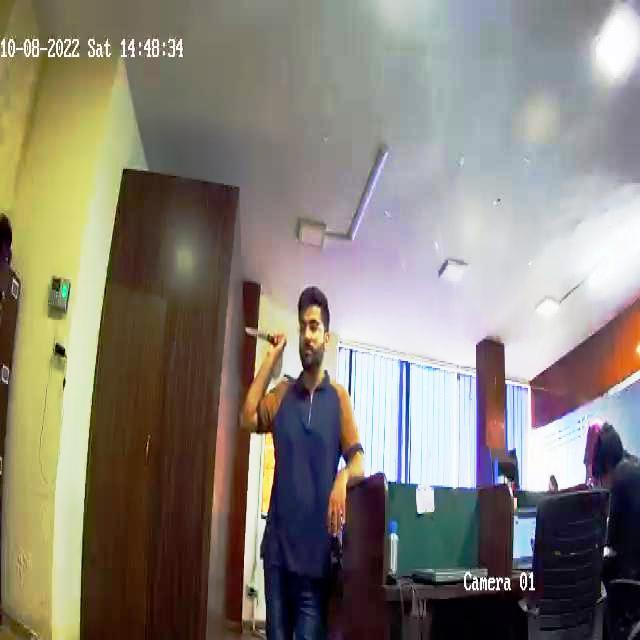Knife: (235, 321, 288, 352)
